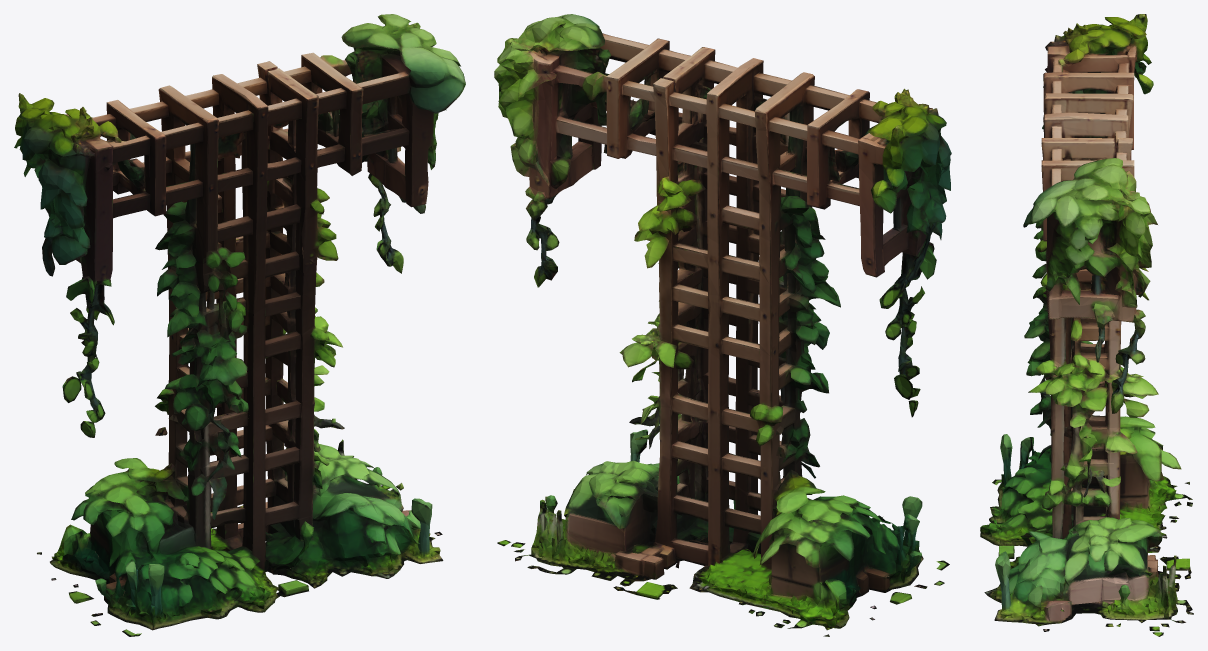
Rendered from sample.glb.
The picture shows the model from 3 angles, left to right: view 1: azimuth 30°, elevation 25°; view 2: azimuth 150°, elevation 25°; view 3: azimuth 270°, elevation 25°; orthographic projection. The views are drawn at different scales.
Visible parts, largest first — view 1: world; view 2: world; view 3: world.
Part boxes in pixels (<box>): world: <box>14,14,465,636</box>; world: <box>494,14,951,636</box>; world: <box>980,14,1193,636</box>.
Size of the model in its own units: 0.8757 by 0.9985 by 0.4216.
Materials: 1 (1 with a texture image).
